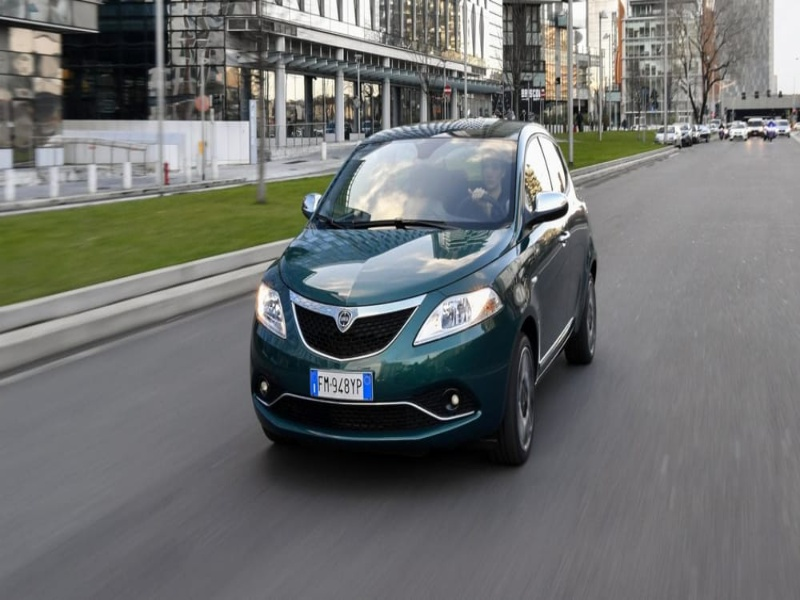licence_plate: (300, 358, 384, 412)
